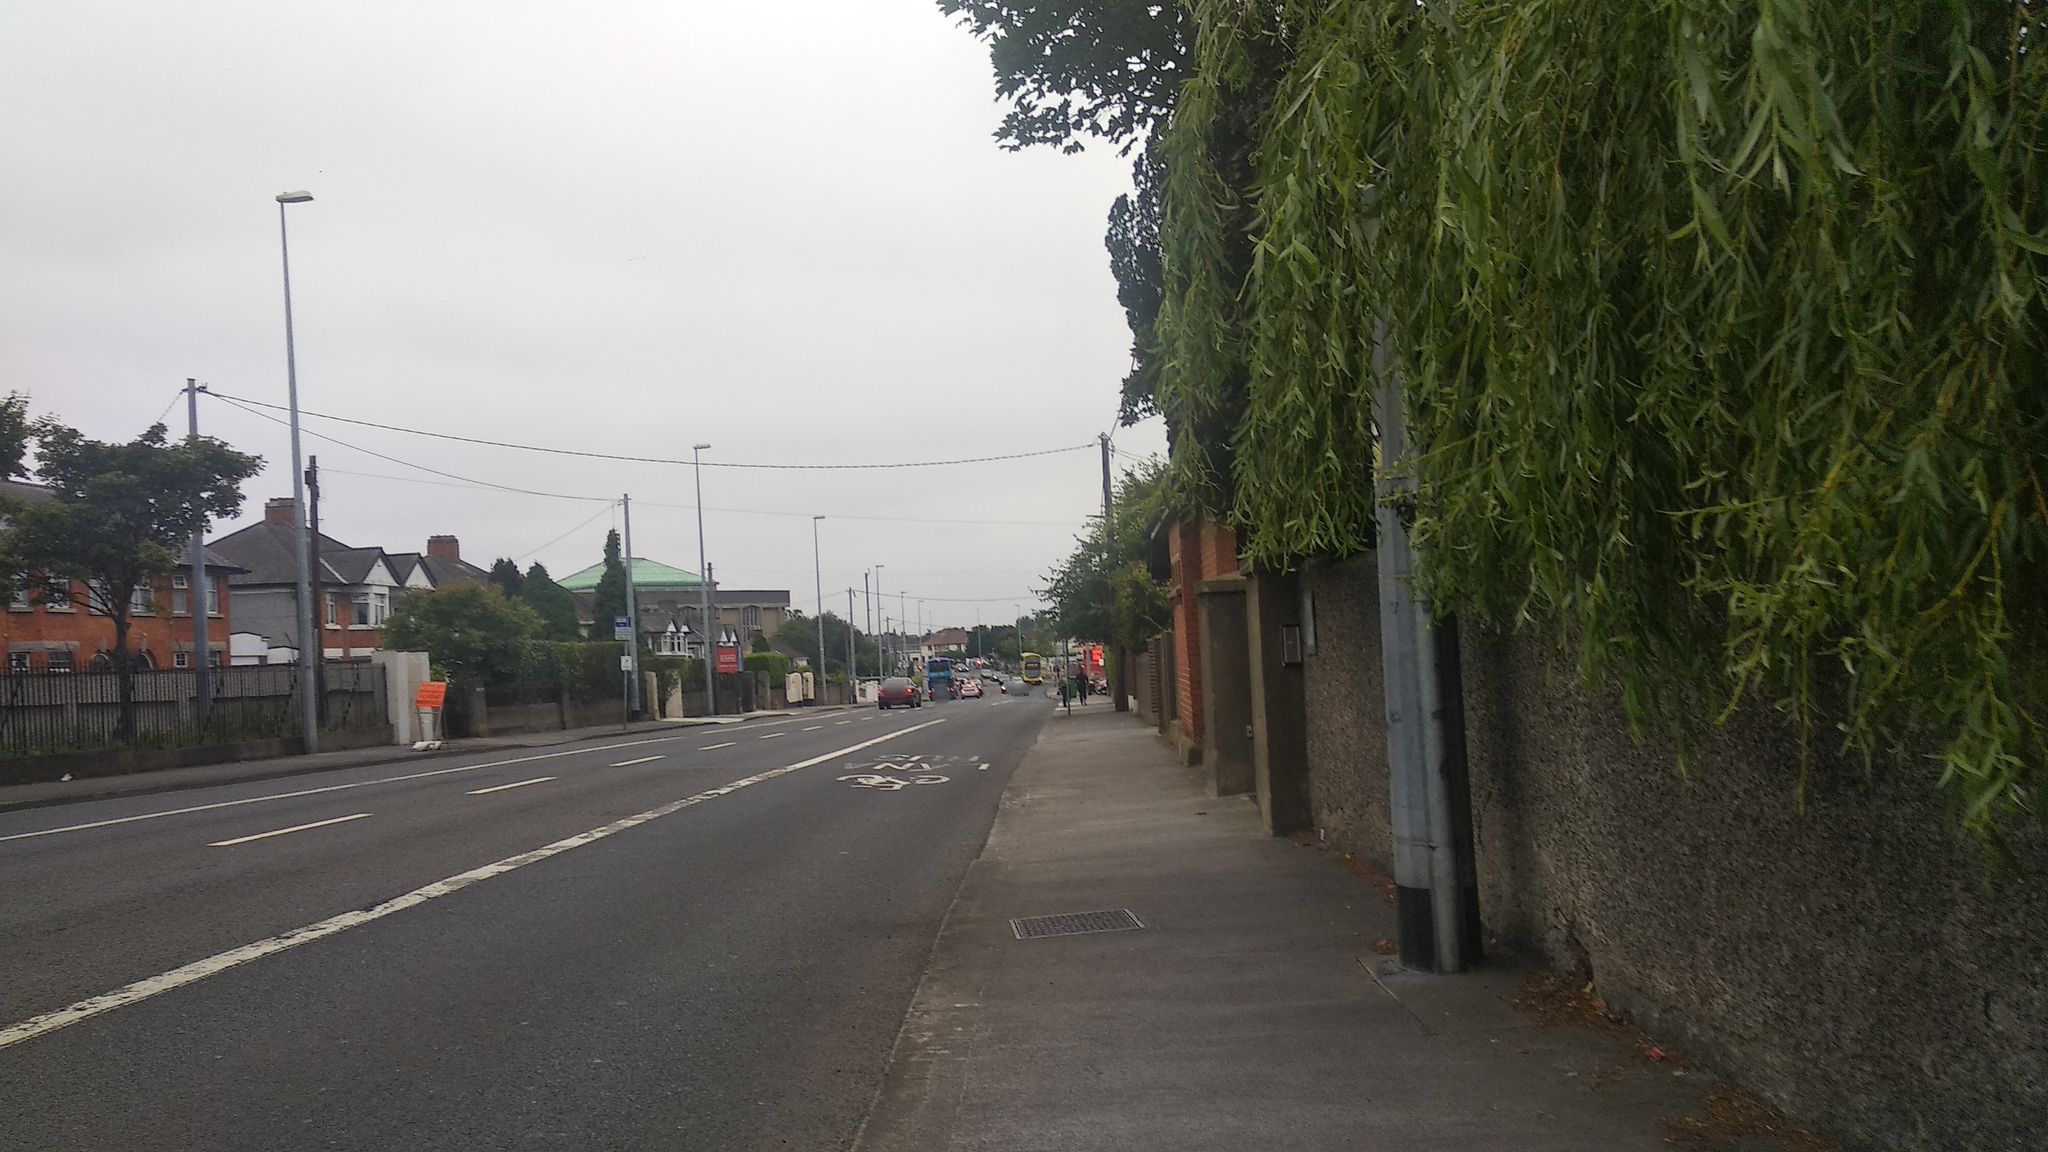property sign: (710, 634, 751, 682)
